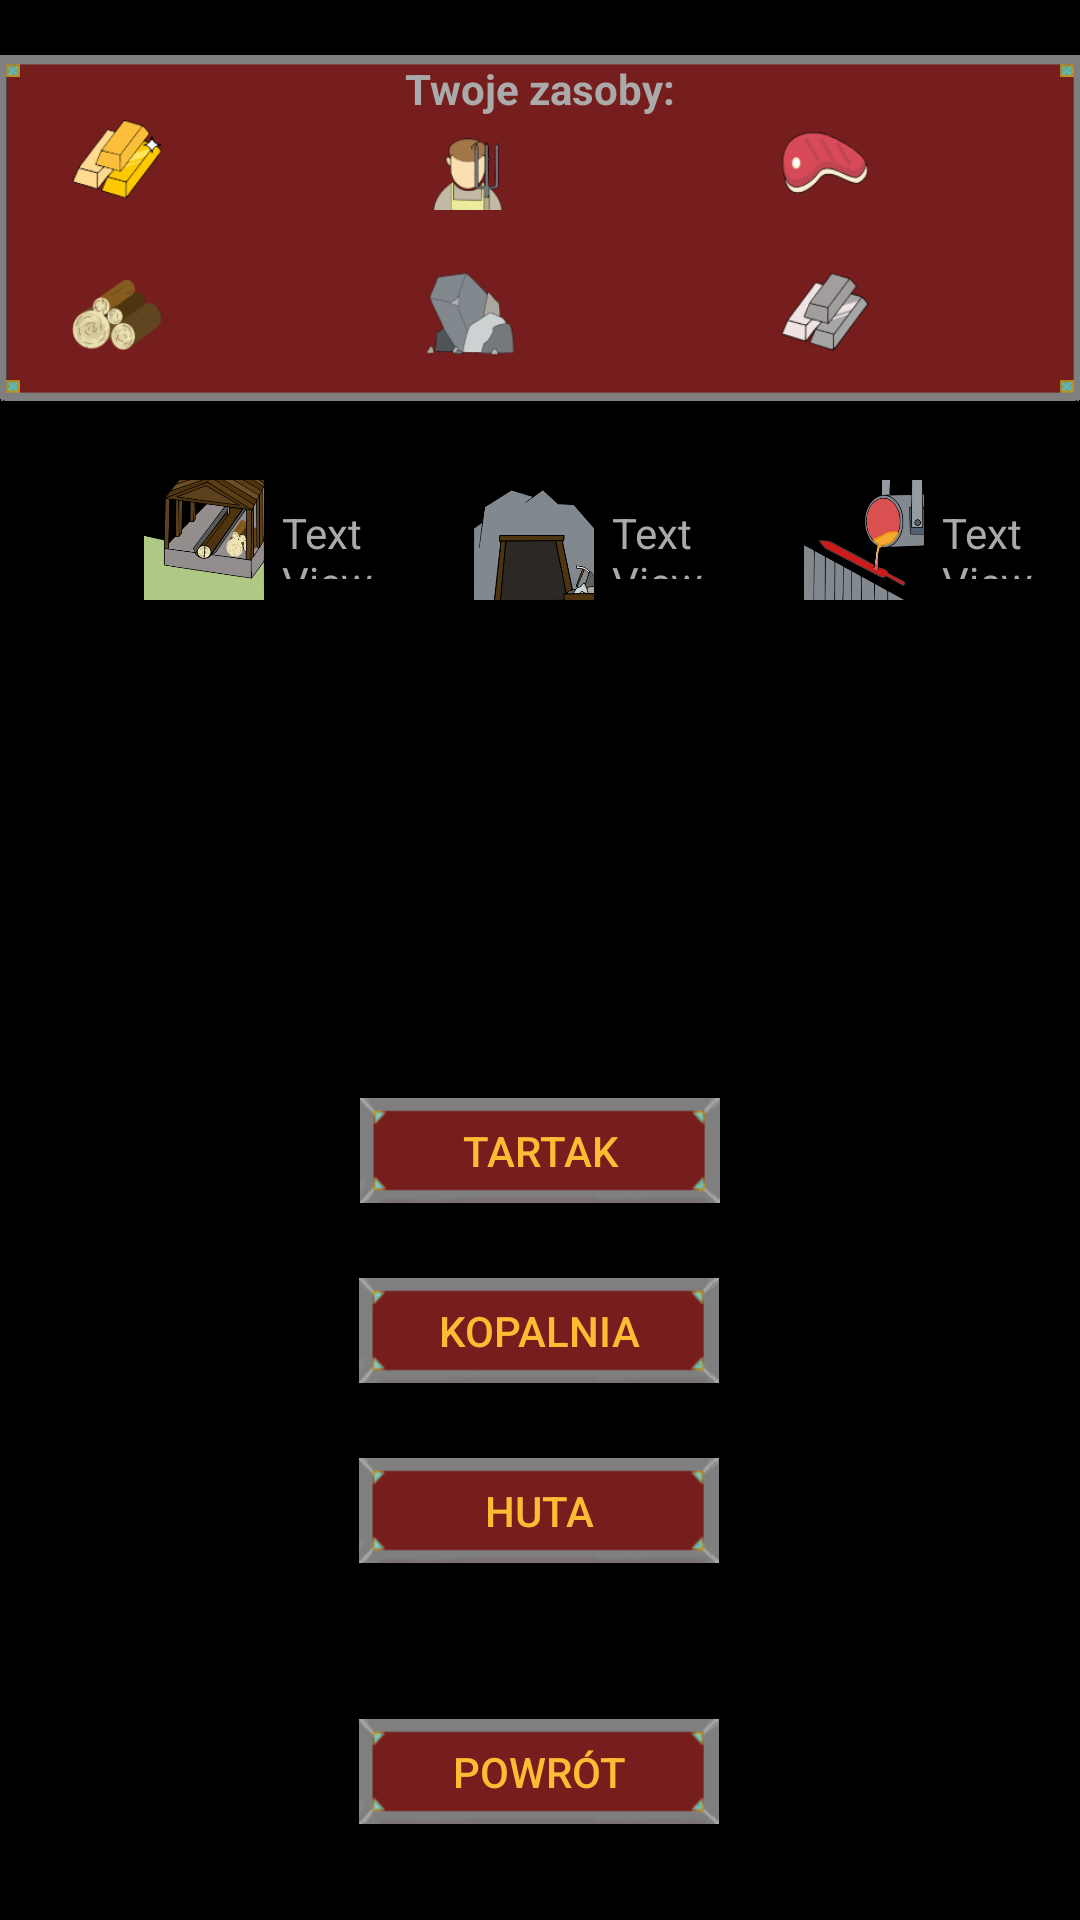

Screen size 1080 x 1920. Icon name, then its center in pixels as (x=x, y=y):
ikona huta: (x=864, y=540)
ikona kopalnia: (x=534, y=545)
ikona tartak: (x=204, y=540)
